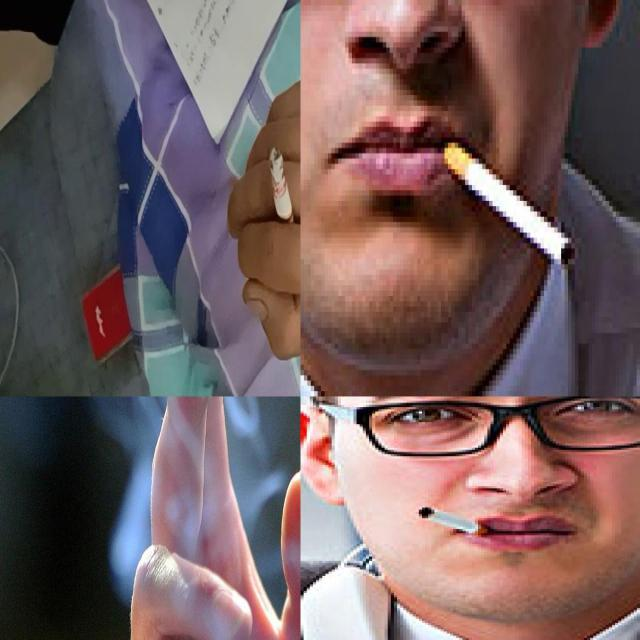smoking: (440, 137, 578, 270), (270, 147, 296, 246), (416, 506, 493, 538)
